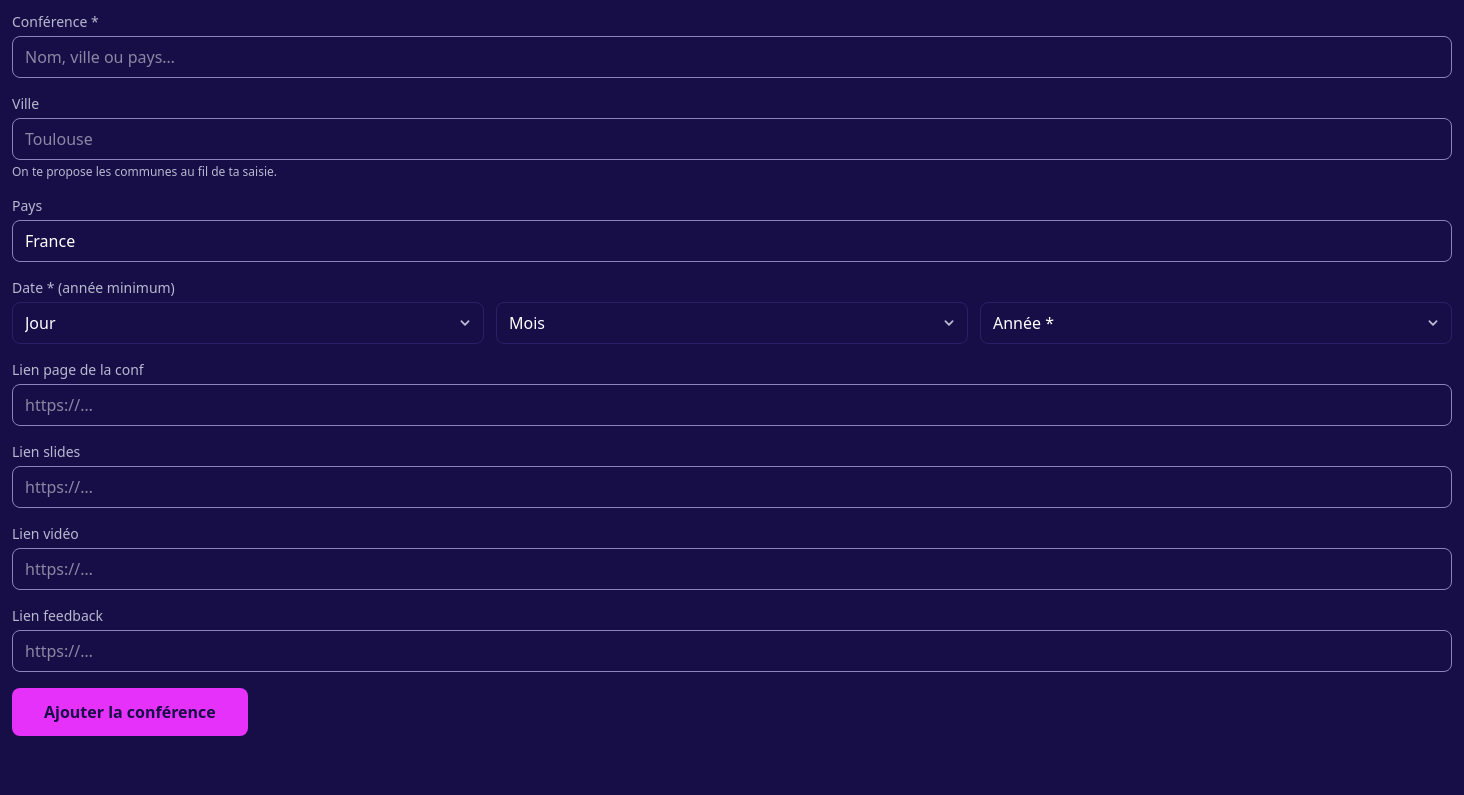
Test: OccurrenceForm — toute erreur serveur est visible (anti échec silencieux) › affiche l'erreur de date
Select "2026" in the 3rd dropdown named "Année" at (1216, 323), box [980,302,1452,344]
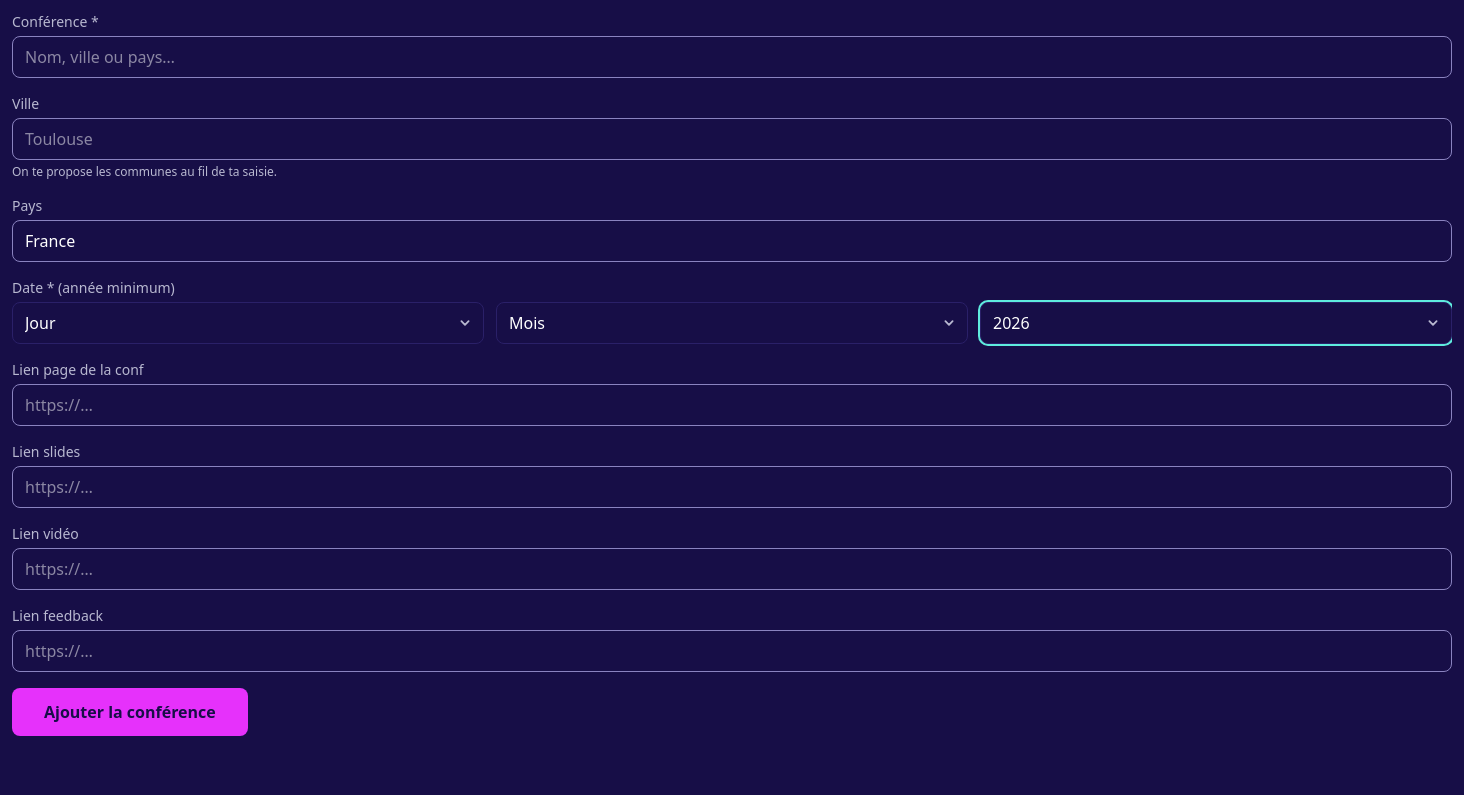
Click the button "Ajouter la conférence".
click(130, 712)  # box [12,688,248,736]
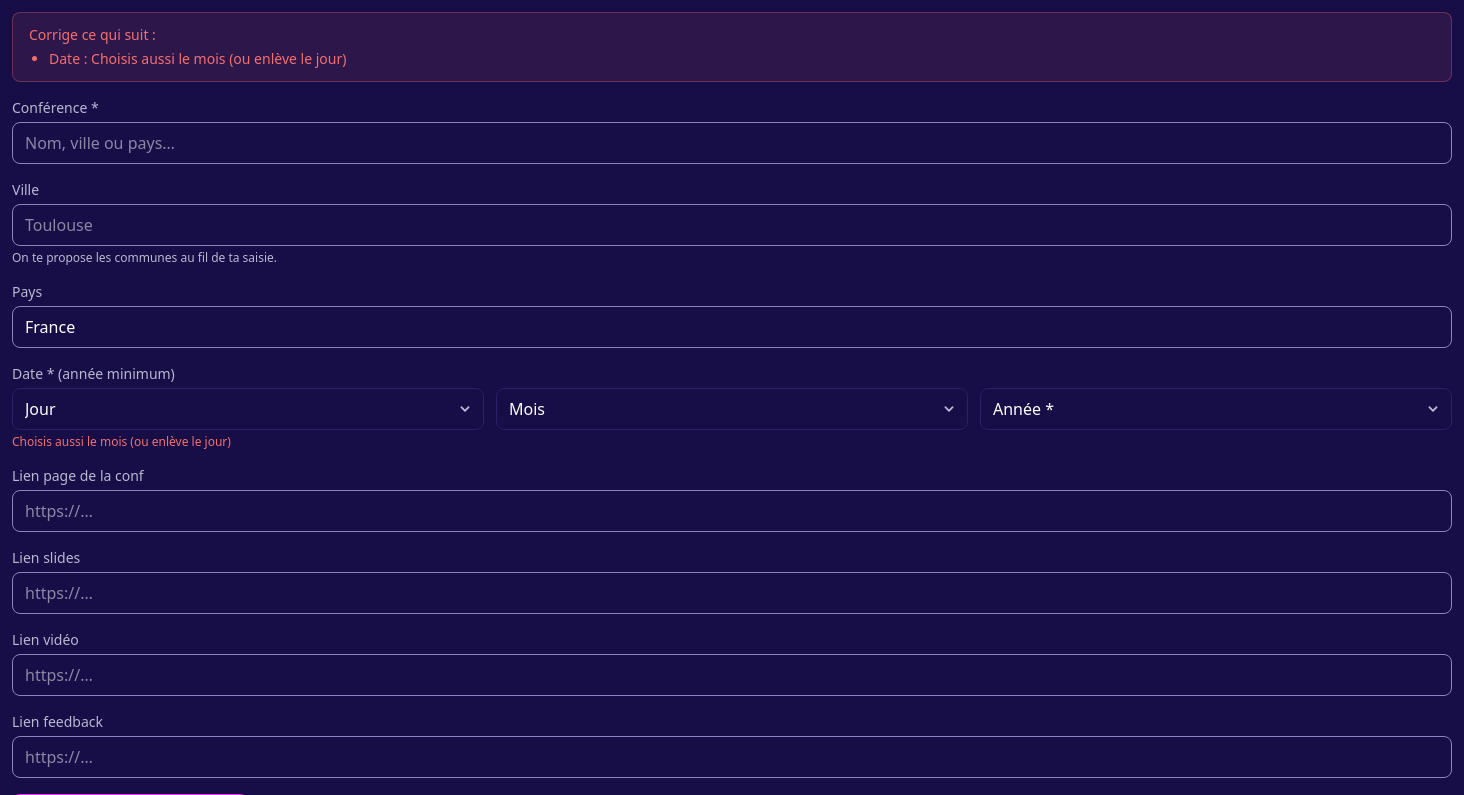
Check: the text "Choisis aussi le mois (ou enlève le jour)" is shown, box [12,433,231,450]
